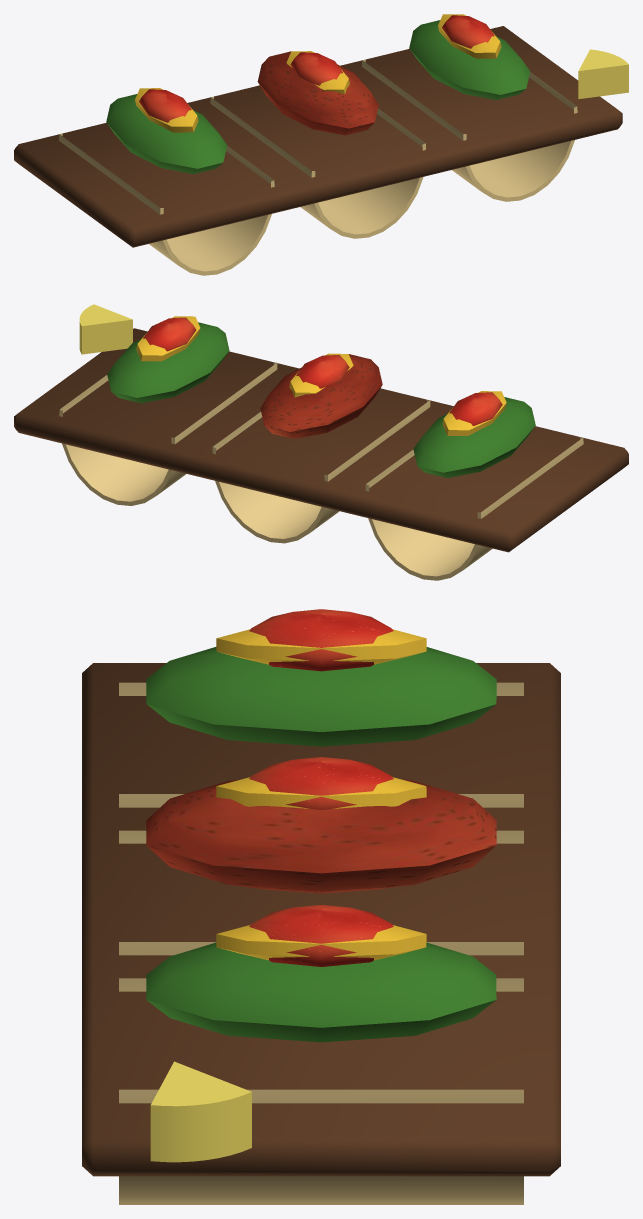
The model's file is meal_tacos_trio.glb.
3 views of the same model, one above another, from view 1: azimuth 30°, elevation 25°; view 2: azimuth 150°, elevation 25°; view 3: azimuth 270°, elevation 25° (orthographic). The views are drawn at different scales.
Visible parts, largest first — view 1: meal_tacos_trio; view 2: meal_tacos_trio; view 3: meal_tacos_trio.
Part boxes in pixels (<box>): meal_tacos_trio: <box>14,14,628,275</box>; meal_tacos_trio: <box>14,304,628,580</box>; meal_tacos_trio: <box>82,609,560,1204</box>.
Size of the model in its own units: 0.3238 by 0.0851 by 0.13.
Materials: 7 (2 with a texture image).
